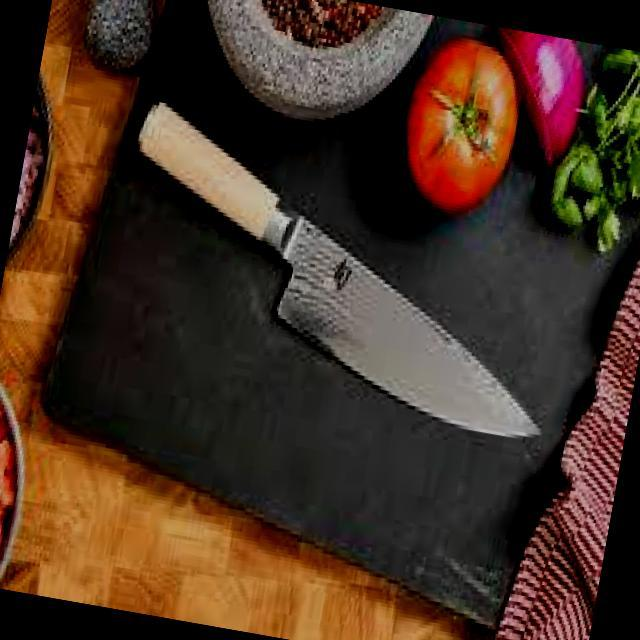Knife: (83, 78, 599, 460)
